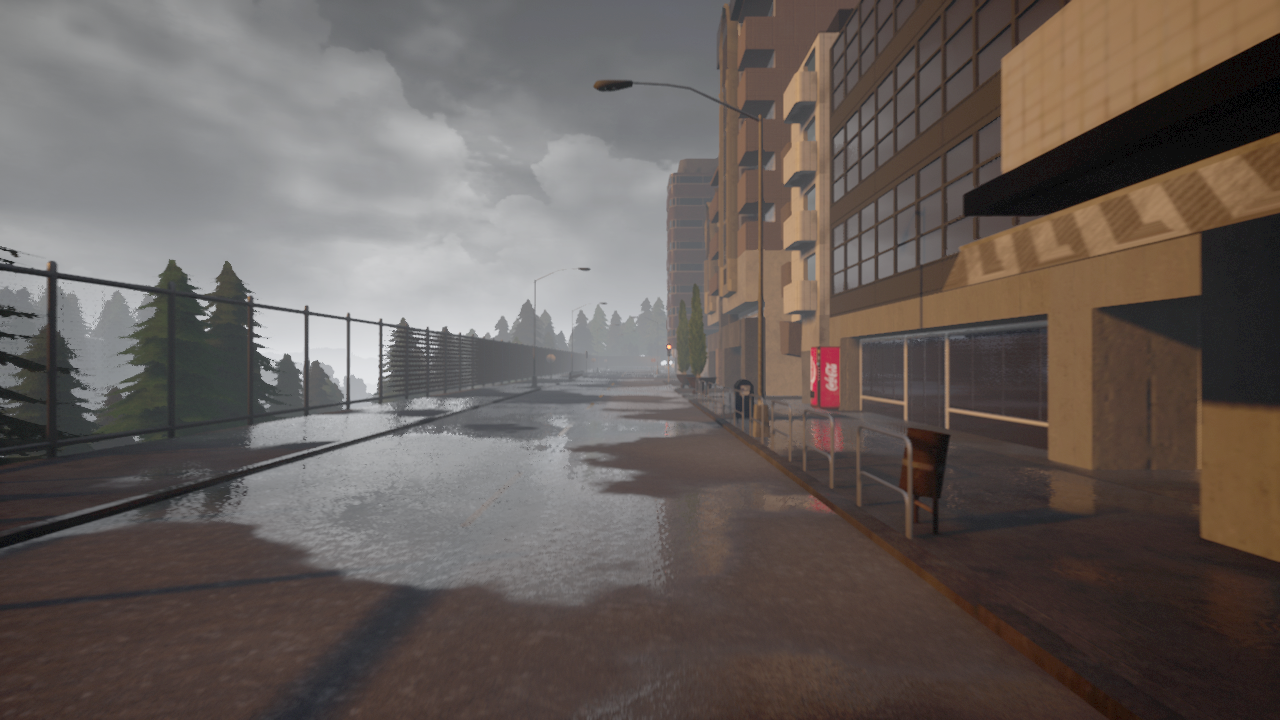red: (666, 343, 672, 356)
